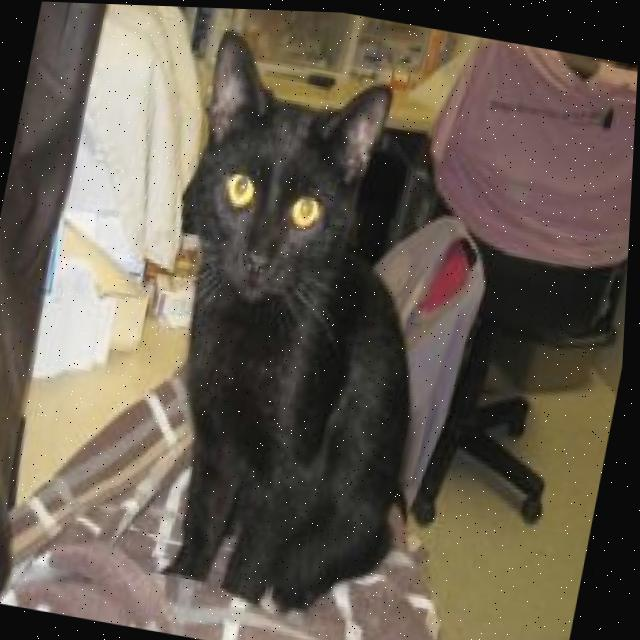Bombay: (114, 20, 491, 635)
